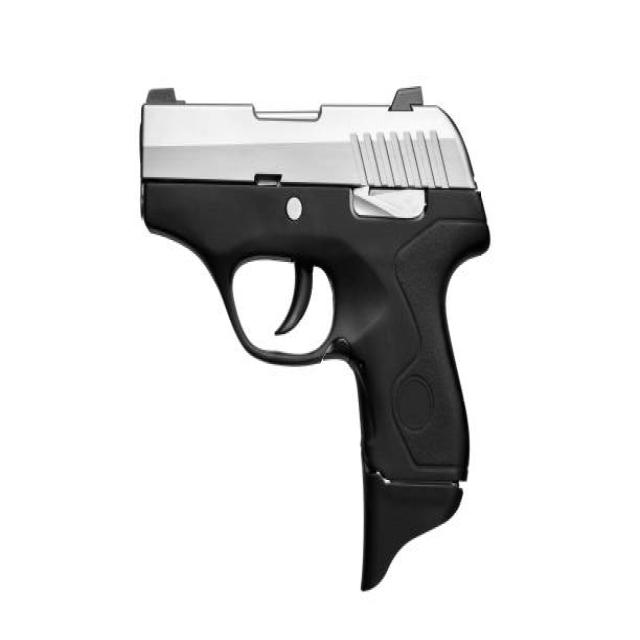pistol: (133, 74, 493, 599)
